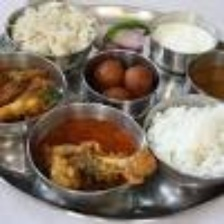rice: (147, 97, 224, 179)
